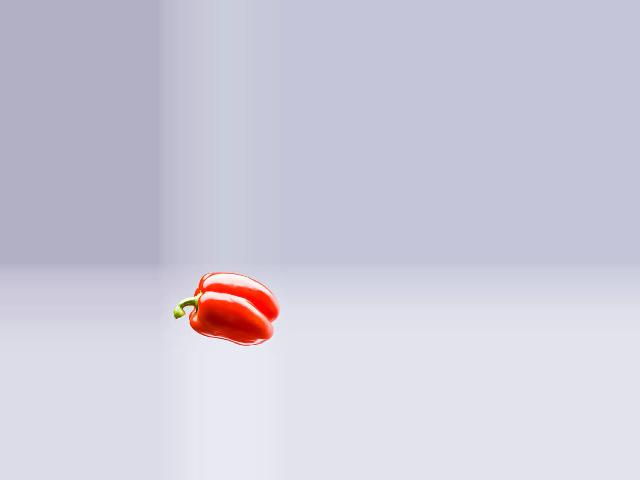bell_pepper: (172, 268, 276, 347)
